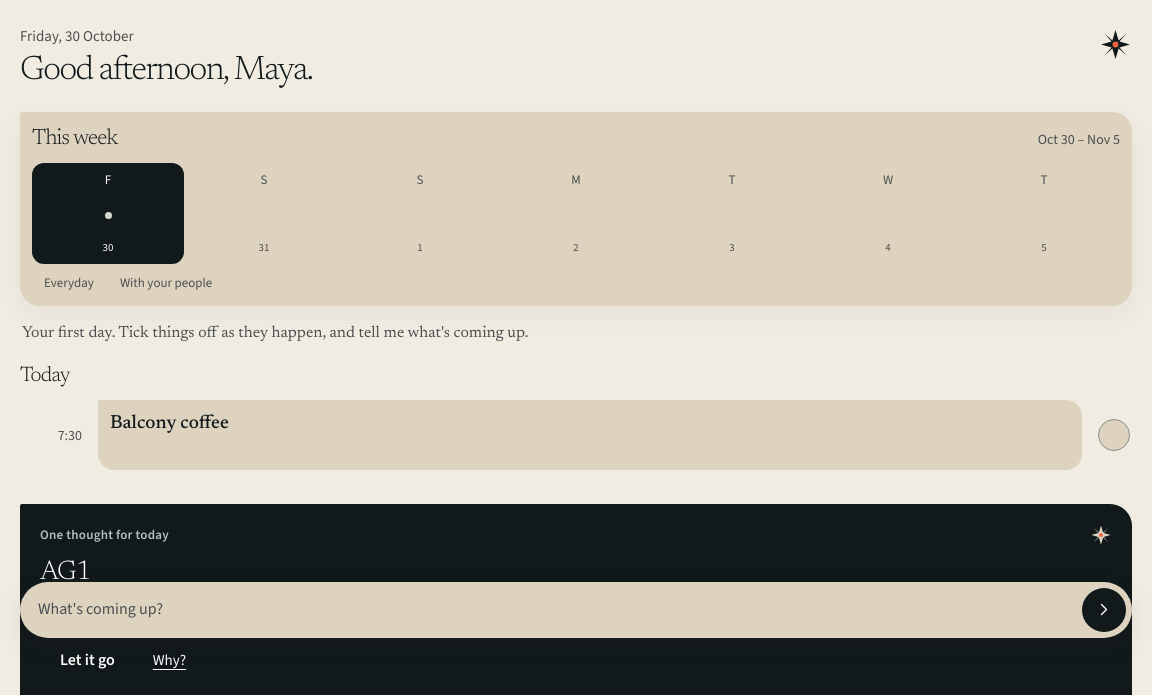
Test: the Ritual tab › answers Why? in a sheet, about that thing
This screenshot has width=1152, height=695.
Click the button "Why?": coordinates (169, 661) [147, 641, 192, 681]
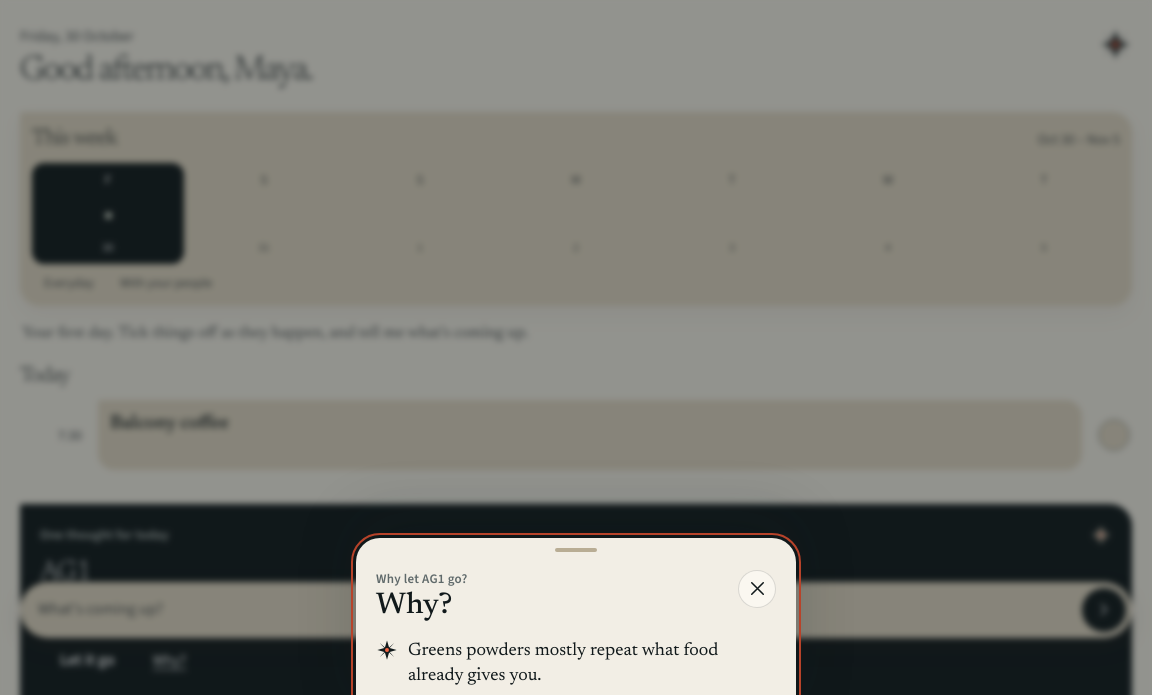
Expected: the text "Greens powders mostly repeat what food already gives you." is shown, [408, 642, 718, 685]
